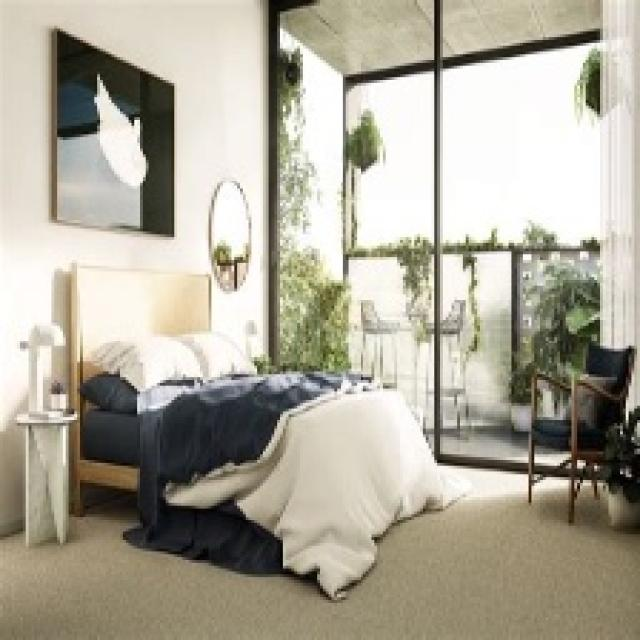Bed: (66, 260, 466, 600)
